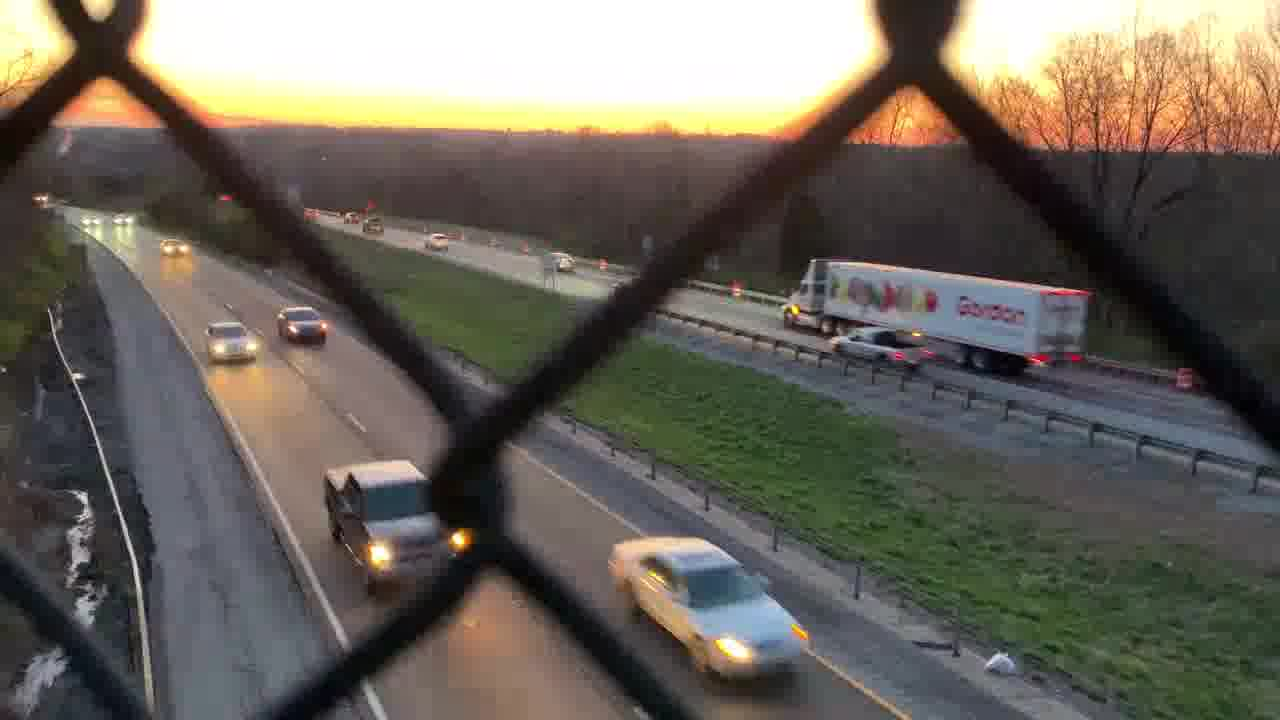heavyTruck: (784, 253, 1095, 363)
largeCar: (321, 454, 467, 590)
lightTruck: (830, 325, 936, 368)
smallCar: (609, 532, 818, 683), (205, 321, 261, 365), (274, 303, 332, 345)
